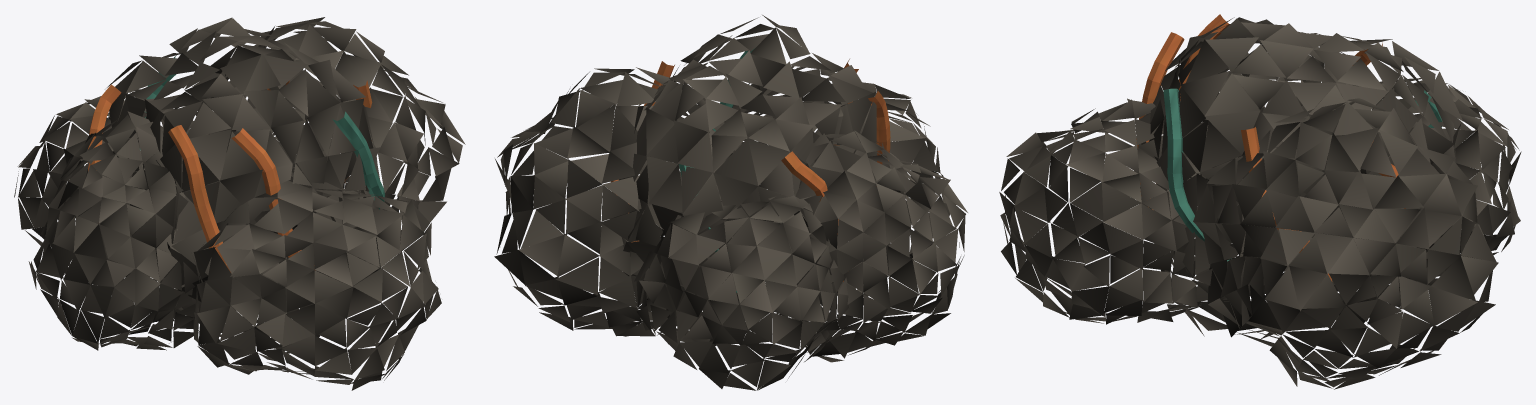
File: standard-lod0.glb
3 renders of one model, left to right at view 1: azimuth 30°, elevation 25°; view 2: azimuth 150°, elevation 25°; view 3: azimuth 270°, elevation 25°, orthographic. The views are drawn at different scales.
Visible parts, largest first — view 1: copper-host-rock, copper-mineral-seams; view 2: copper-host-rock, copper-mineral-seams; view 3: copper-host-rock, copper-mineral-seams.
Part boxes in pixels (x1,y1,x2,y2): copper-host-rock: [14, 17, 465, 390]; copper-mineral-seams: [87, 55, 385, 272]; copper-host-rock: [494, 15, 967, 390]; copper-mineral-seams: [611, 48, 890, 292]; copper-host-rock: [999, 17, 1521, 389]; copper-mineral-seams: [1136, 14, 1442, 281].
Size of the model in its own units: 4.09 by 2.7 by 4.06.
